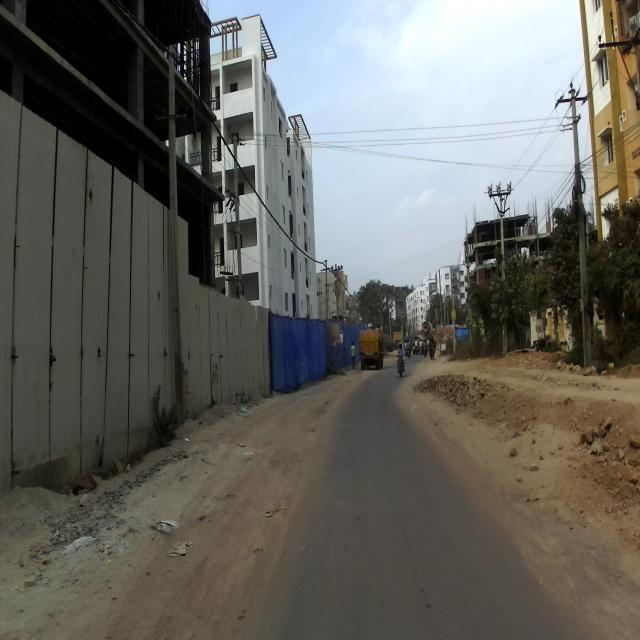electric pole ahead at: (165, 107, 190, 422)
